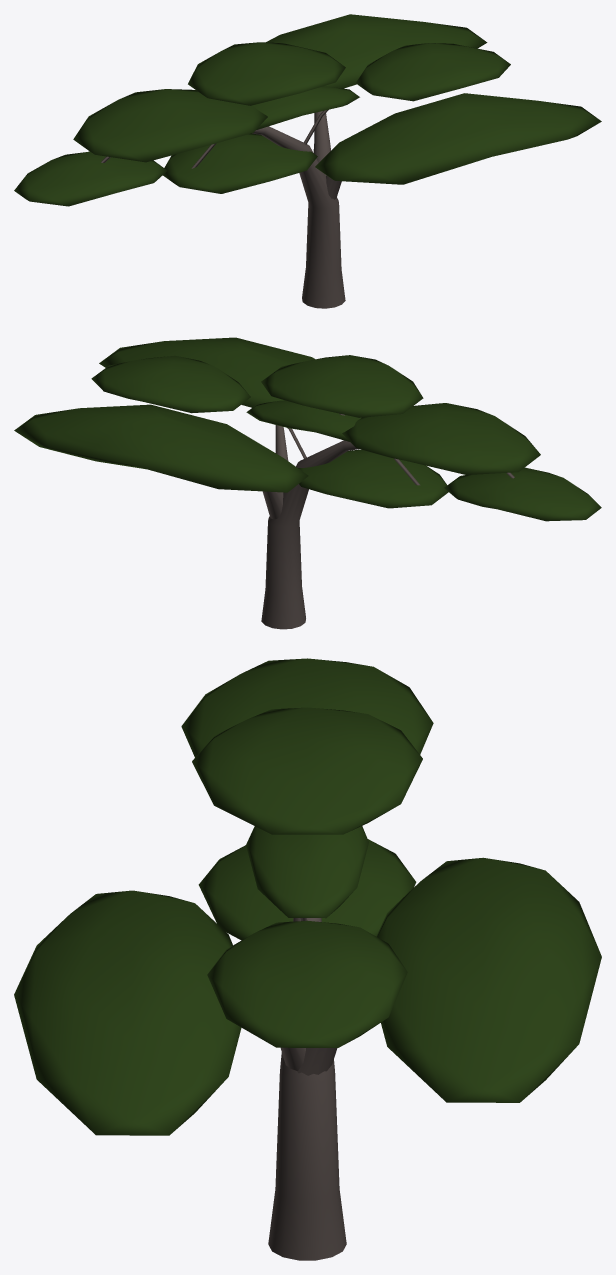
Rendered from M_Tree_Acasia.fbx.
The picture shows the model from 3 angles, top to bottom: view 1: azimuth 30°, elevation 25°; view 2: azimuth 150°, elevation 25°; view 3: azimuth 270°, elevation 25°; orthographic projection. The views are drawn at different scales.
Visible parts, largest first — view 1: M_Acasia; view 2: M_Acasia; view 3: M_Acasia.
Part boxes in pixels (x1,y1,x2,y2): M_Acasia: (14, 14, 601, 308); M_Acasia: (14, 337, 601, 629); M_Acasia: (14, 658, 601, 1260).
Bounding box in the file's own units: 545 × 466 × 991.
